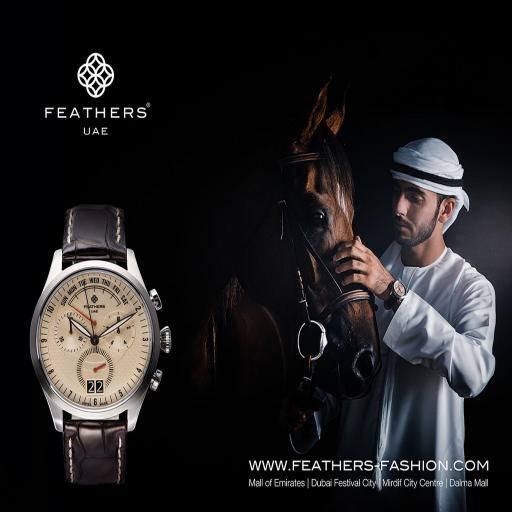Horse: (159, 80, 385, 512)
